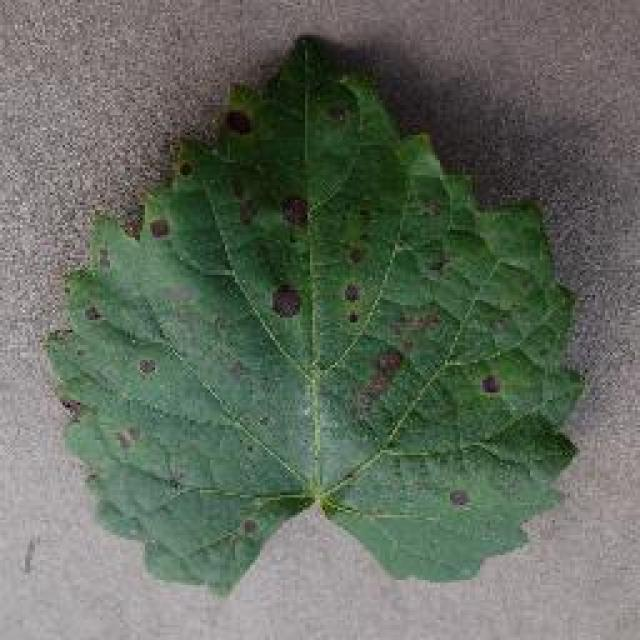Grape___Black_rot: (42, 35, 588, 605)
